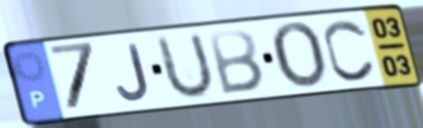7: (47, 39, 99, 115)
B: (205, 27, 267, 97)
C: (321, 17, 379, 84)
J: (114, 41, 153, 103)
O: (267, 20, 330, 92)
U: (154, 30, 217, 103)
